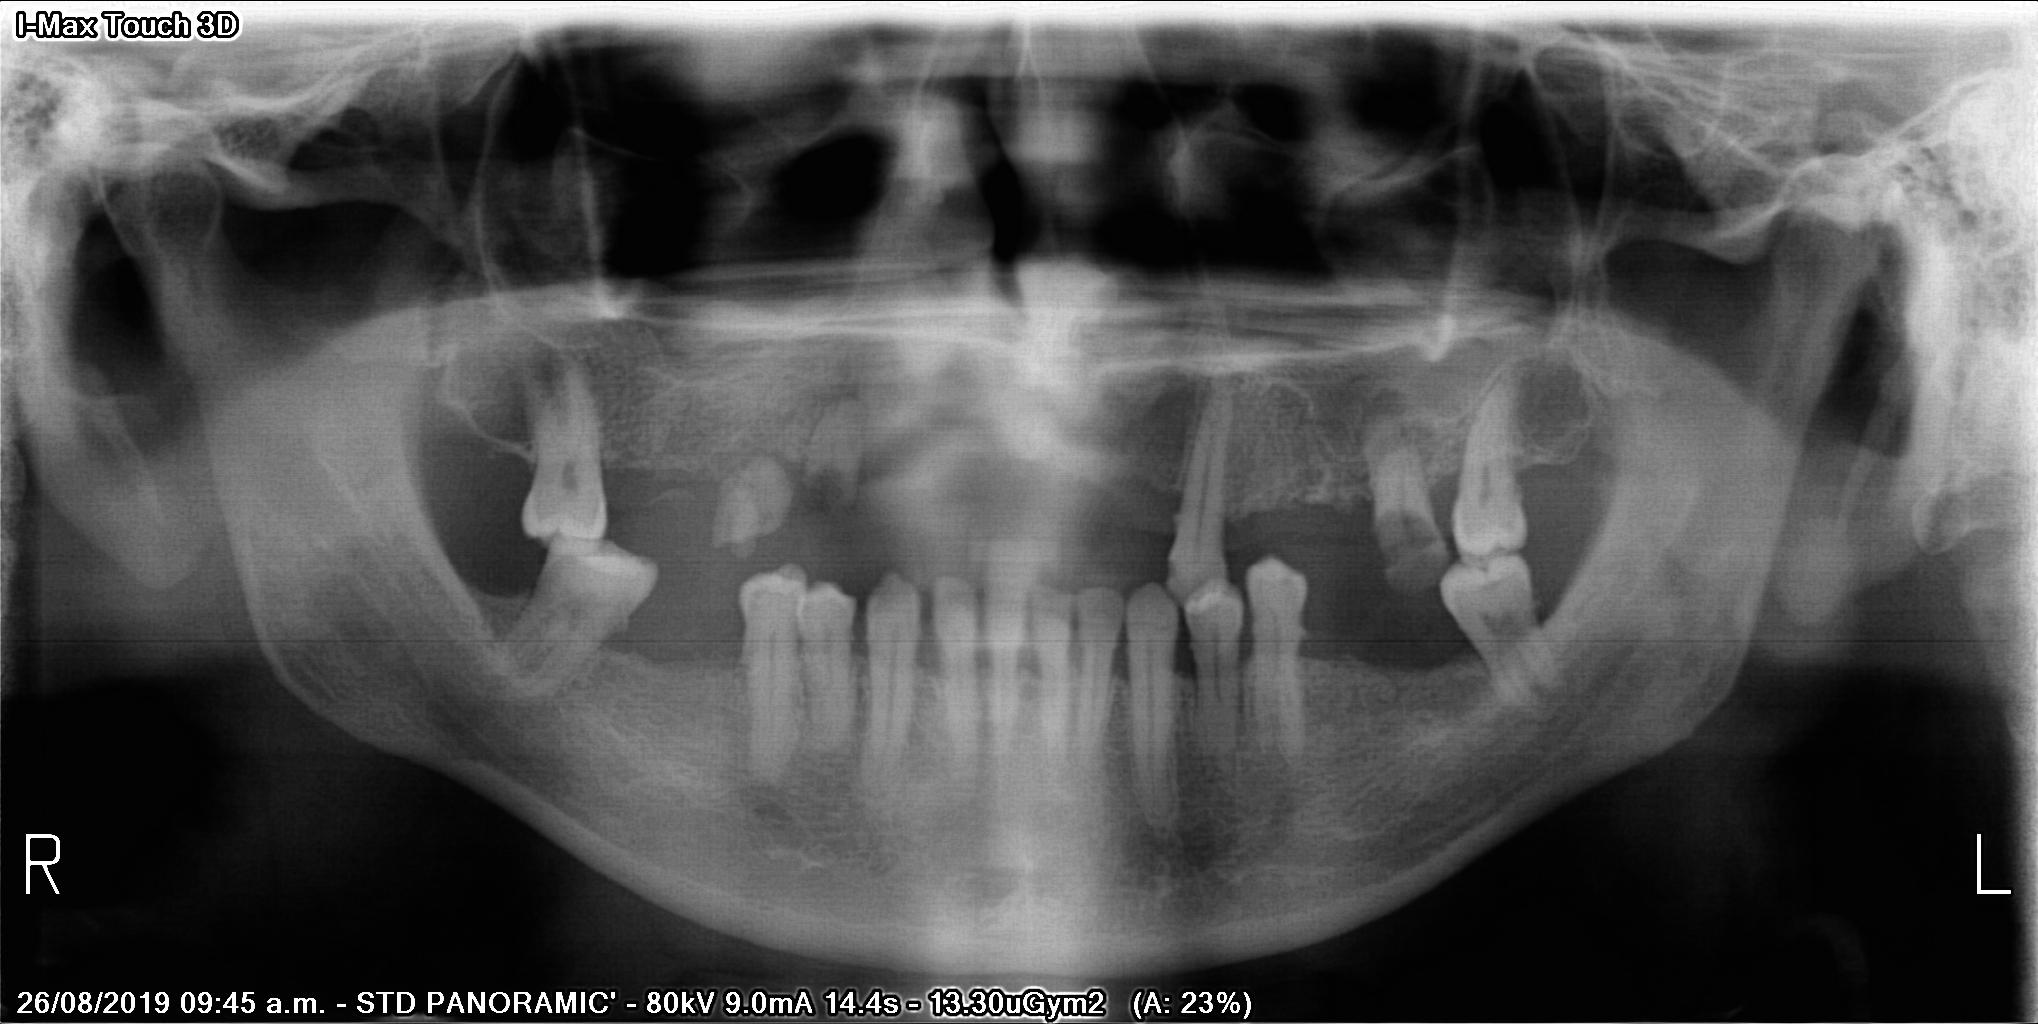Çürük Bölgesi: (1373, 516, 1434, 558), (809, 465, 858, 505), (1166, 556, 1178, 586)
